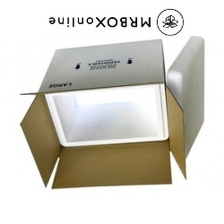book: (15, 36, 193, 196)
foam_box: (39, 81, 173, 151)
